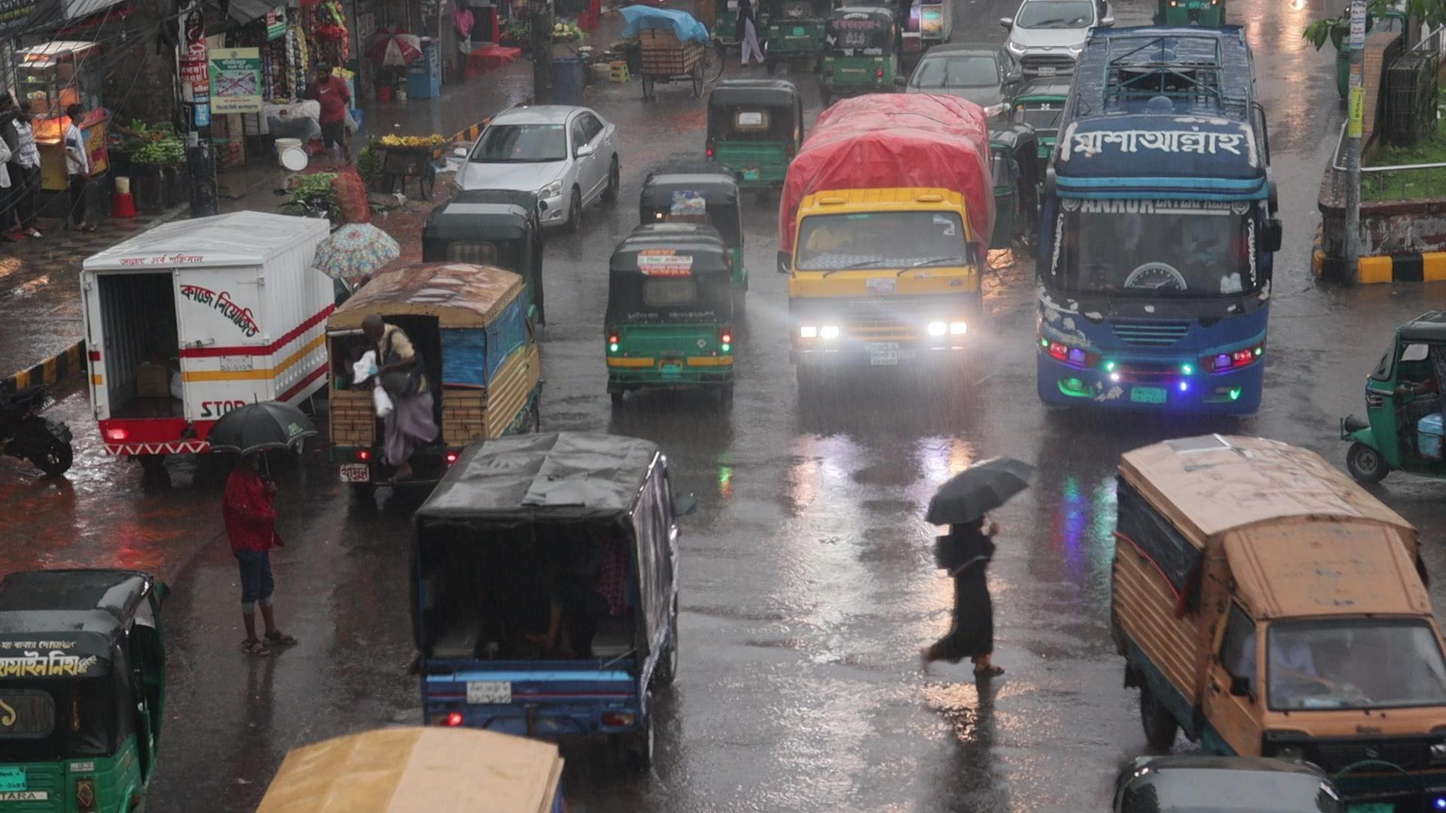Bus: (1035, 16, 1280, 421)
Truck: (1106, 423, 1446, 752), (402, 427, 685, 736), (776, 90, 997, 397)
